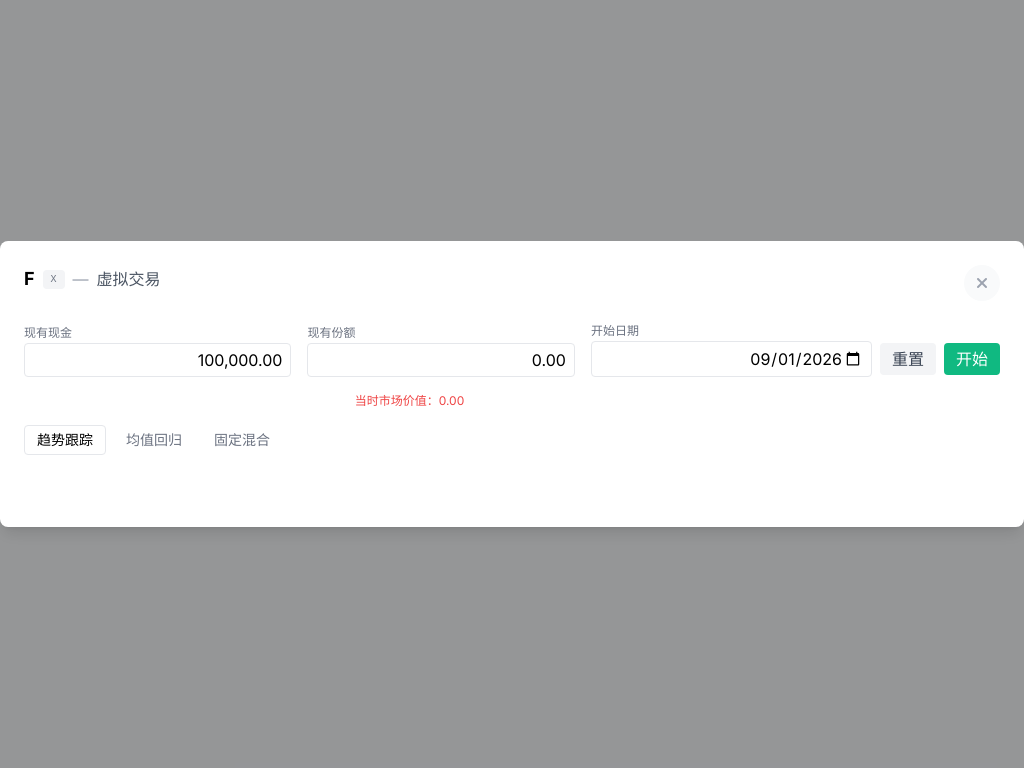
Test case: VirtualTradeModal thumbs and auto-switch behavior › best single strategy gets thumb and active tab switches
// Wait for strategies to load (button text should change from "加载中..." to "开始")
Click the button "开始" at (972,359), box [944, 343, 1000, 375]
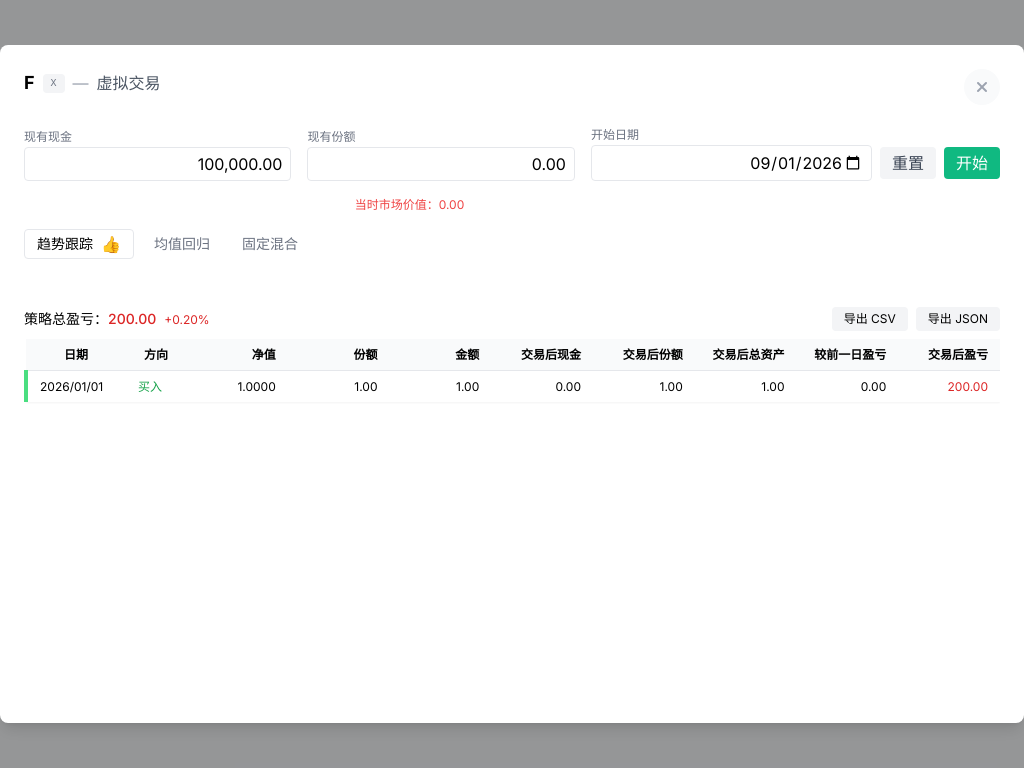
Now the picture titled "当前收益最高" is shown, box [101, 236, 121, 252]
